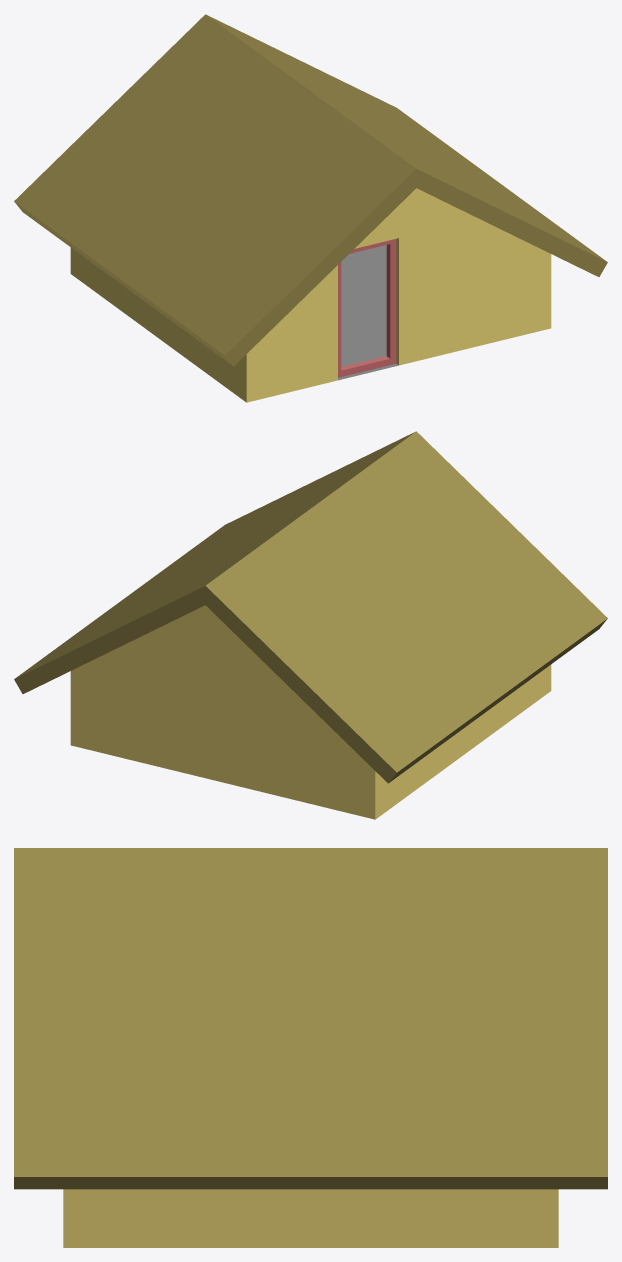
File: result.glb
The picture shows the model from 3 angles, top to bottom: view 1: azimuth 30°, elevation 25°; view 2: azimuth 150°, elevation 25°; view 3: azimuth 270°, elevation 25°; orthographic projection. The views are drawn at different scales.
Visible parts, largest first — view 1: 87225449-b9be-4642-a91d-5ed725d0a61d__undefined (×2), ce59dadb-c798-42e4-b42c-5b7998667743__undefined, f7cb721e-1a3f-48e2-a136-e6b53762db57__Plane_4, 6c6d0f2f-1754-429b-a422-3118e2696bd0__Box; view 2: 87225449-b9be-4642-a91d-5ed725d0a61d__undefined (×2), ce59dadb-c798-42e4-b42c-5b7998667743__undefined; view 3: 87225449-b9be-4642-a91d-5ed725d0a61d__undefined, ce59dadb-c798-42e4-b42c-5b7998667743__undefined.
Part boxes in pixels (left/top/right/bottom): 87225449-b9be-4642-a91d-5ed725d0a61d__undefined (×2): left=14, top=14, right=607, bottom=366; ce59dadb-c798-42e4-b42c-5b7998667743__undefined: left=70, top=188, right=551, bottom=402; f7cb721e-1a3f-48e2-a136-e6b53762db57__Plane_4: left=338, top=245, right=398, bottom=380; 6c6d0f2f-1754-429b-a422-3118e2696bd0__Box: left=338, top=239, right=396, bottom=377; 87225449-b9be-4642-a91d-5ed725d0a61d__undefined (×2): left=14, top=431, right=607, bottom=783; ce59dadb-c798-42e4-b42c-5b7998667743__undefined: left=70, top=605, right=551, bottom=819; 87225449-b9be-4642-a91d-5ed725d0a61d__undefined: left=14, top=848, right=607, bottom=1189; ce59dadb-c798-42e4-b42c-5b7998667743__undefined: left=63, top=1189, right=558, bottom=1247.
Size of the model in its own units: 629 by 329 by 600.
